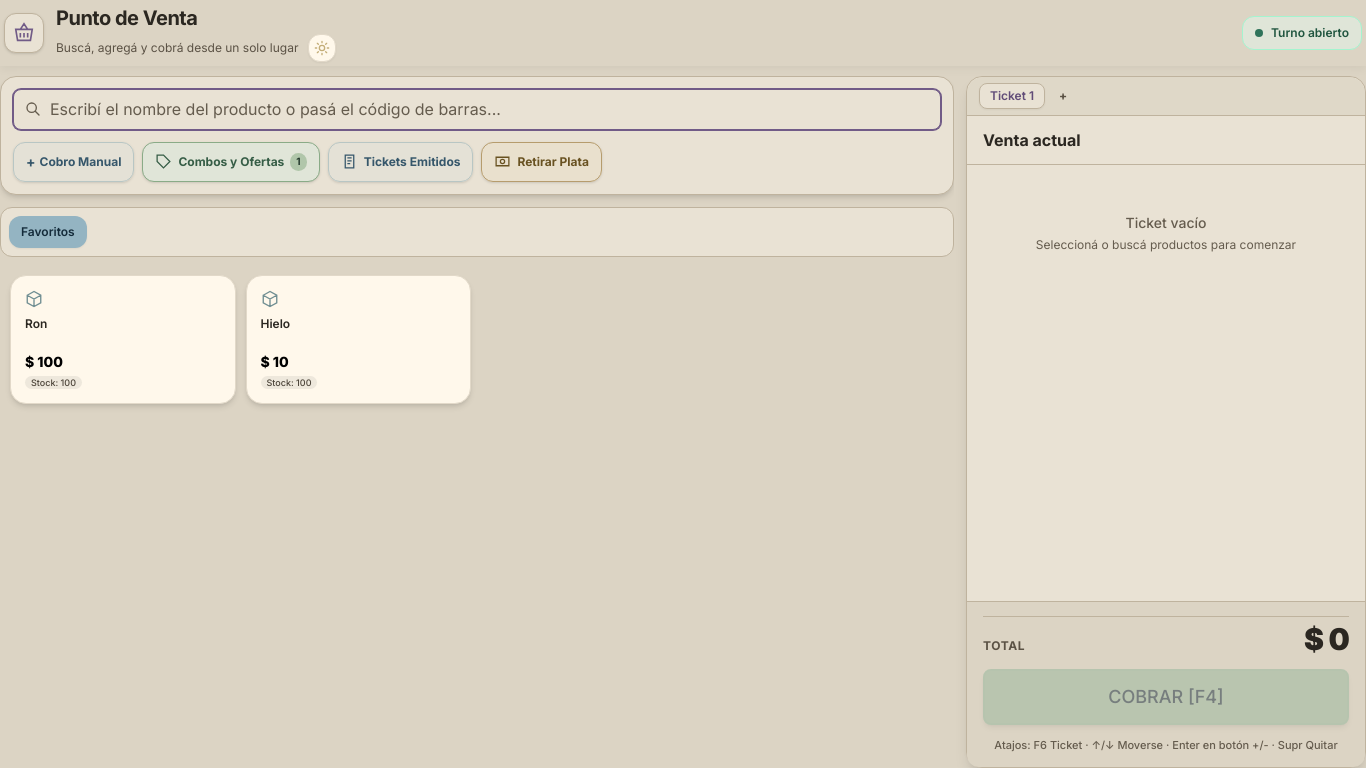
it: POSPage: búsqueda manual, atajos y promociones › cargar un combo agrega cada componente con su cantidad exacta
Click the text "Combos y Ofertas" at (231, 162), box [178,154,284,170]
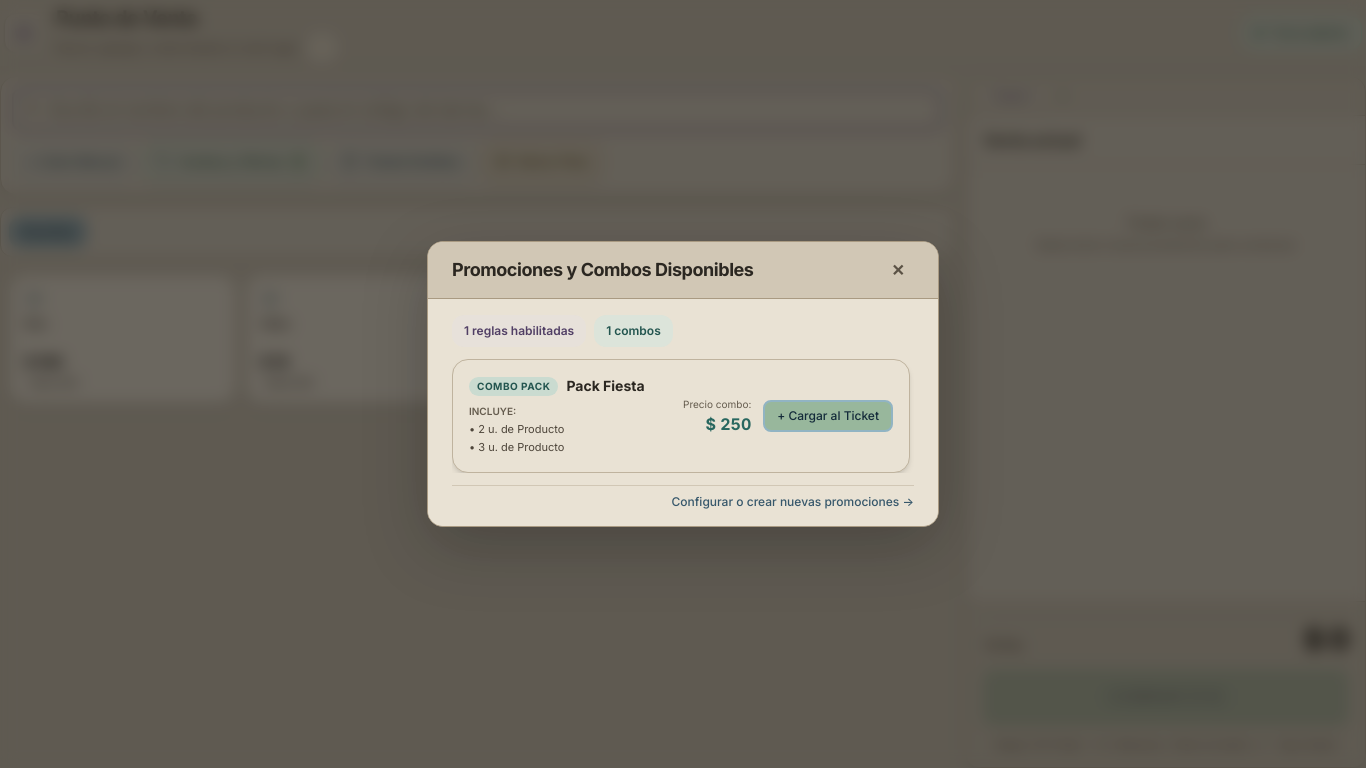
Click the button "+ Cargar al Ticket" at (828, 416), box [763,400,893,432]
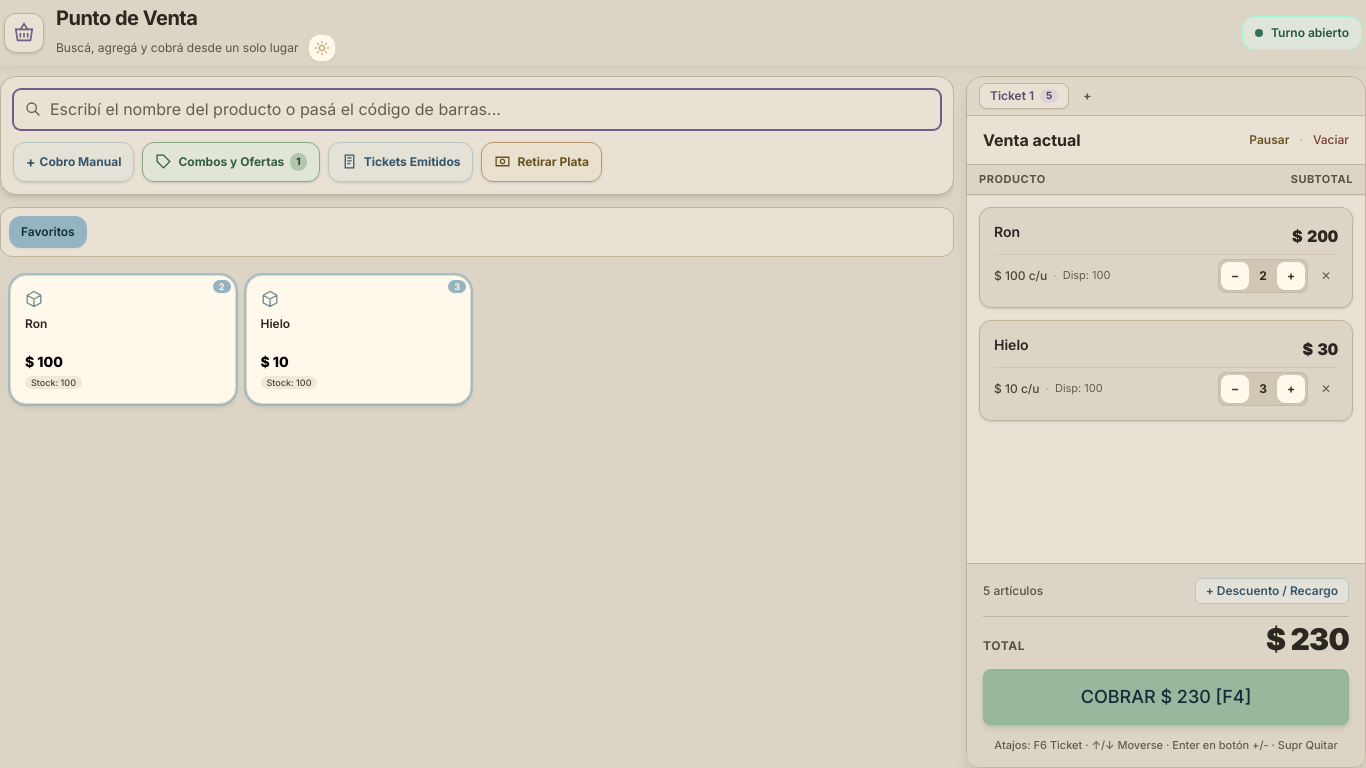
Result: the button "+ Cargar al Ticket" is gone
